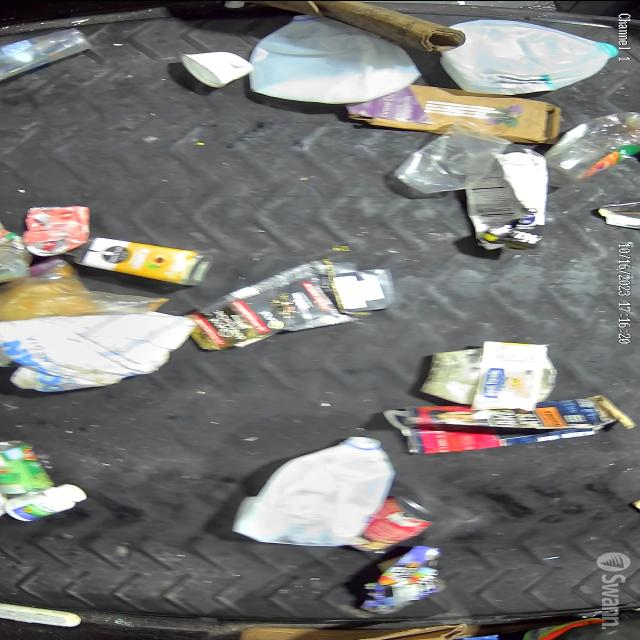can: (346, 494, 436, 552), (25, 200, 95, 257), (0, 438, 53, 500)
milk_jug: (226, 434, 394, 544), (0, 309, 198, 393), (248, 17, 425, 104), (436, 18, 614, 92)
plastic_bottle: (546, 109, 640, 181)
